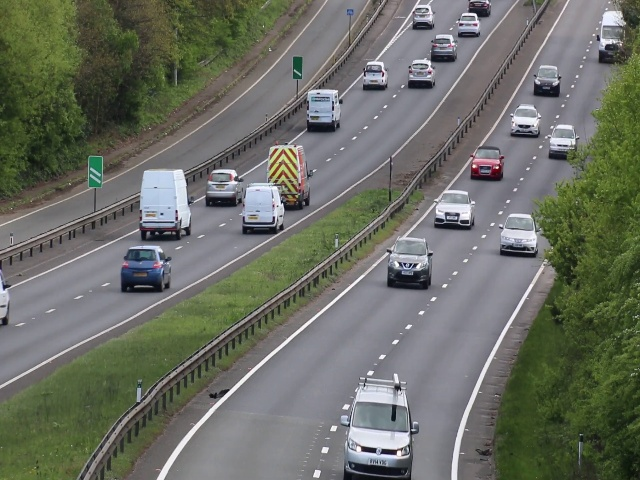car: (345, 376, 416, 479), (139, 167, 193, 237), (268, 142, 312, 209), (385, 235, 434, 289), (120, 244, 171, 295), (241, 183, 285, 231), (499, 209, 538, 257), (435, 187, 475, 233), (306, 85, 342, 129), (205, 166, 244, 204), (546, 121, 577, 157), (532, 61, 560, 99), (470, 148, 501, 181), (511, 104, 541, 137), (600, 9, 617, 62), (431, 32, 458, 64), (409, 58, 436, 88), (364, 58, 389, 88), (410, 3, 437, 30), (458, 12, 479, 38)
